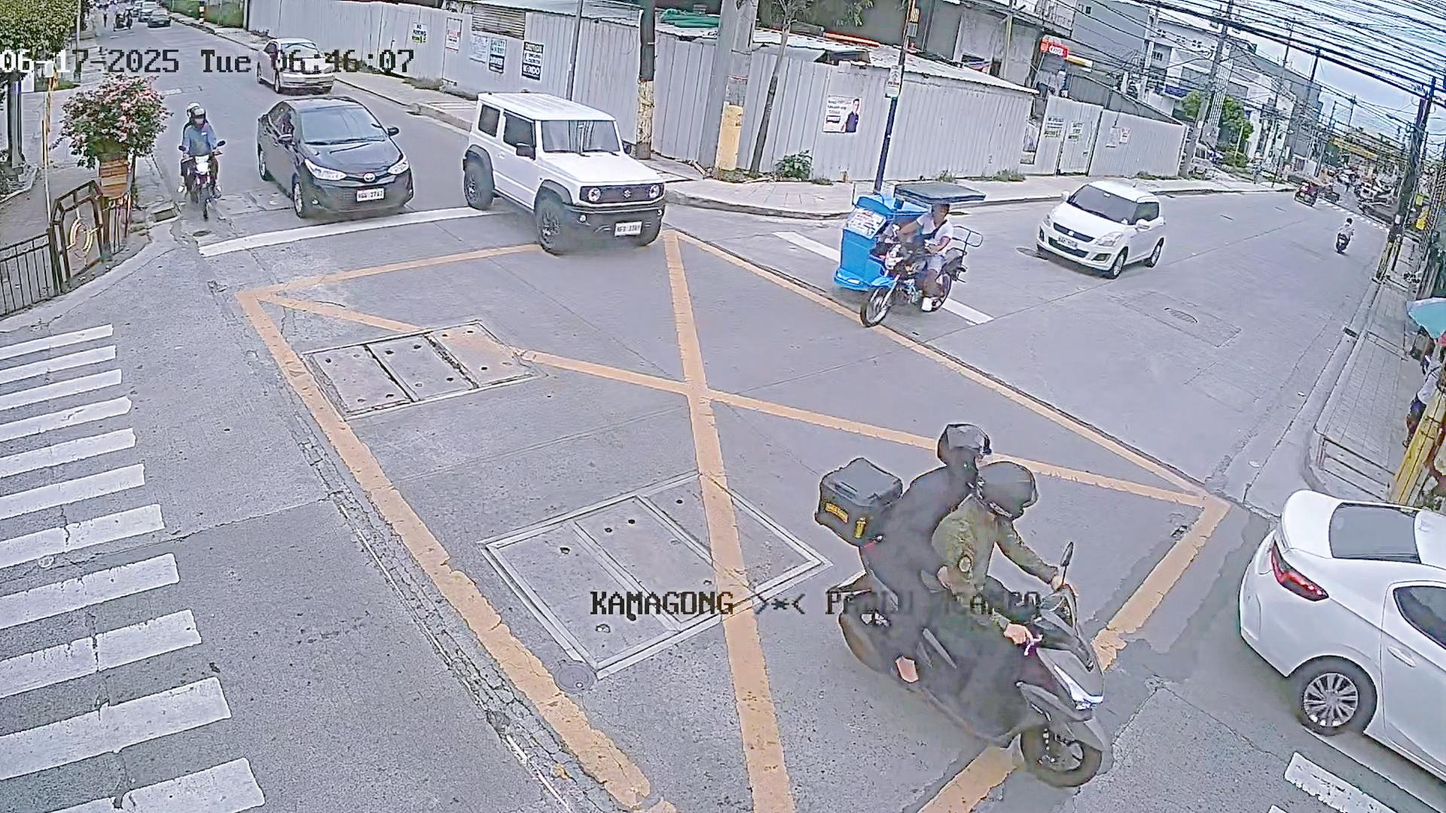Car: (1223, 458, 1446, 809), (454, 77, 672, 261), (246, 88, 422, 234), (1047, 163, 1157, 292)
Motor: (776, 390, 1128, 803), (851, 244, 976, 336), (167, 141, 223, 229), (1317, 205, 1375, 271)
